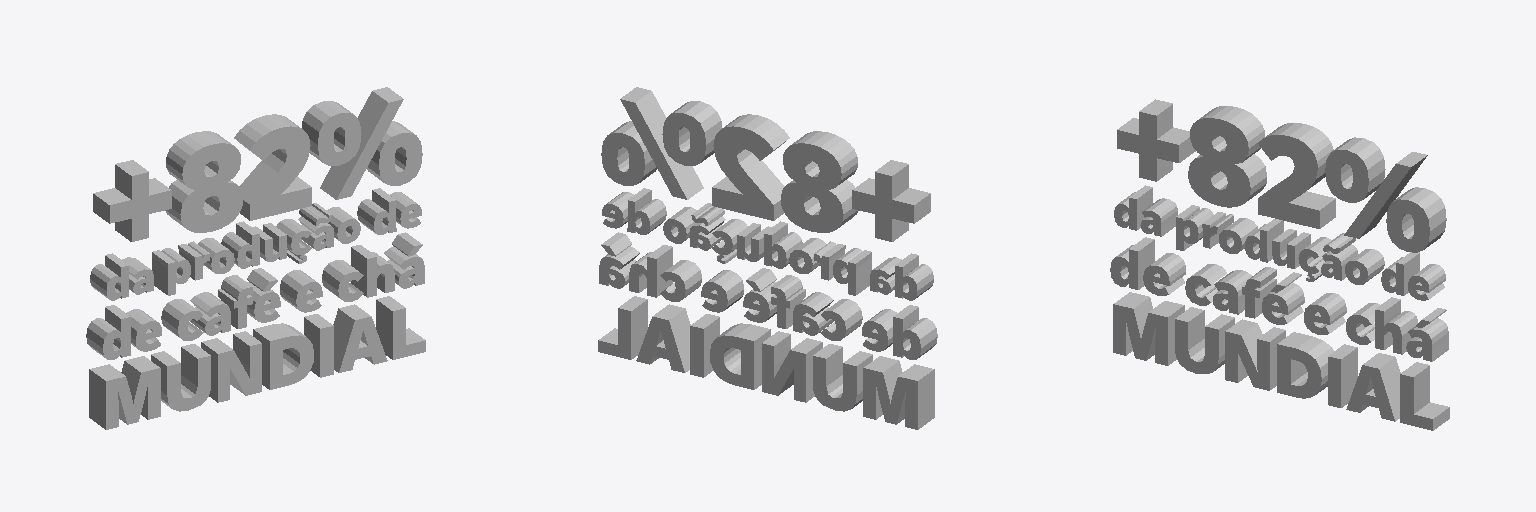
3 views of the same model, side by side, from view 1: azimuth 30°, elevation 25°; view 2: azimuth 150°, elevation 25°; view 3: azimuth 330°, elevation 25° (orthographic).
Parts seen in each view (by area): view 1: obj_0; view 2: obj_0; view 3: obj_0.
Boxes of the visible parts, x1=… form: obj_0: x1=86, y1=87, x2=425, y2=429; obj_0: x1=598, y1=87, x2=937, y2=429; obj_0: x1=1110, y1=99, x2=1449, y2=430.
Size of the model in its own units: 720 by 554 by 64.